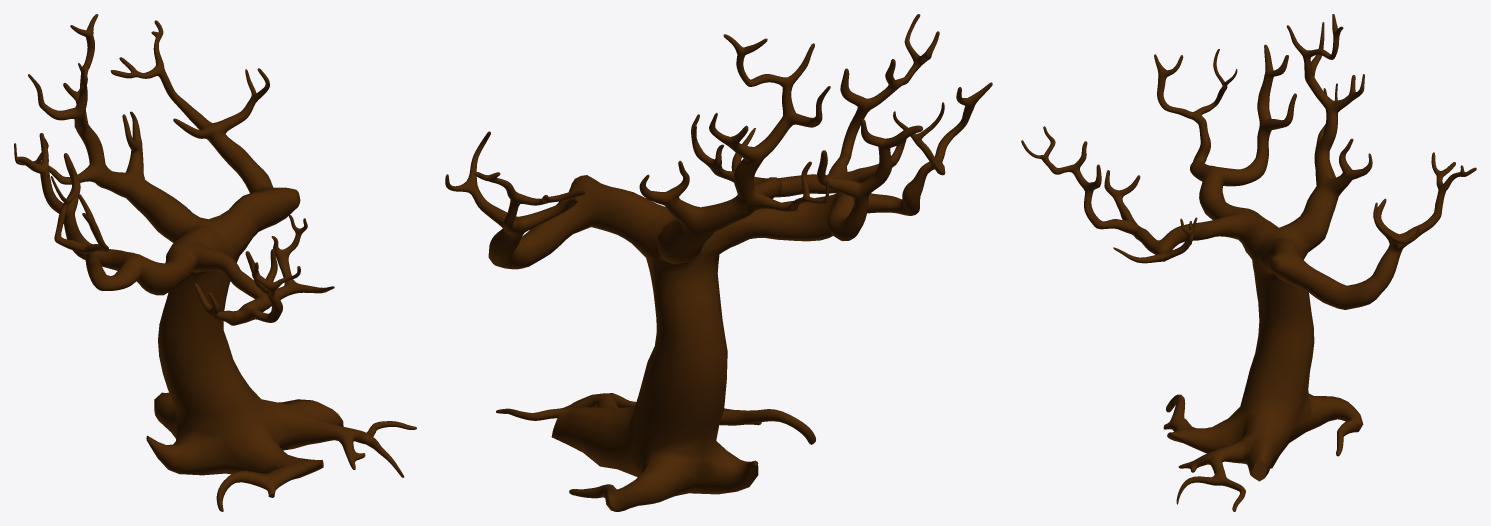
The model's file is tree.fbx.
The picture shows the model from 3 angles, left to right: view 1: azimuth 30°, elevation 25°; view 2: azimuth 150°, elevation 25°; view 3: azimuth 270°, elevation 25°; orthographic projection. The views are drawn at different scales.
Parts seen in each view (by area): view 1: LeaflessTree:LeaflessTree; view 2: LeaflessTree:LeaflessTree; view 3: LeaflessTree:LeaflessTree.
Part boxes in pixels (x1,y1,x2,y2): LeaflessTree:LeaflessTree: [14, 14, 416, 511]; LeaflessTree:LeaflessTree: [445, 14, 992, 511]; LeaflessTree:LeaflessTree: [1021, 14, 1476, 511].
Size of the model in its own units: 25.39 by 28.22 by 30.05.
